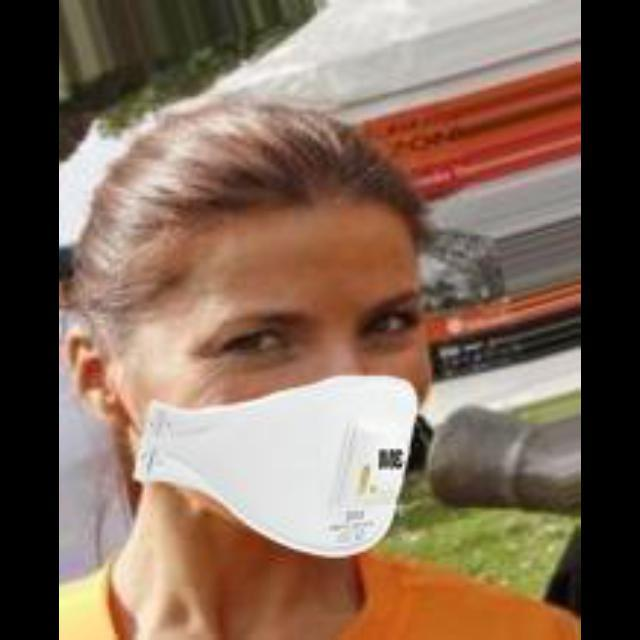suspicion: (137, 140, 433, 566)
